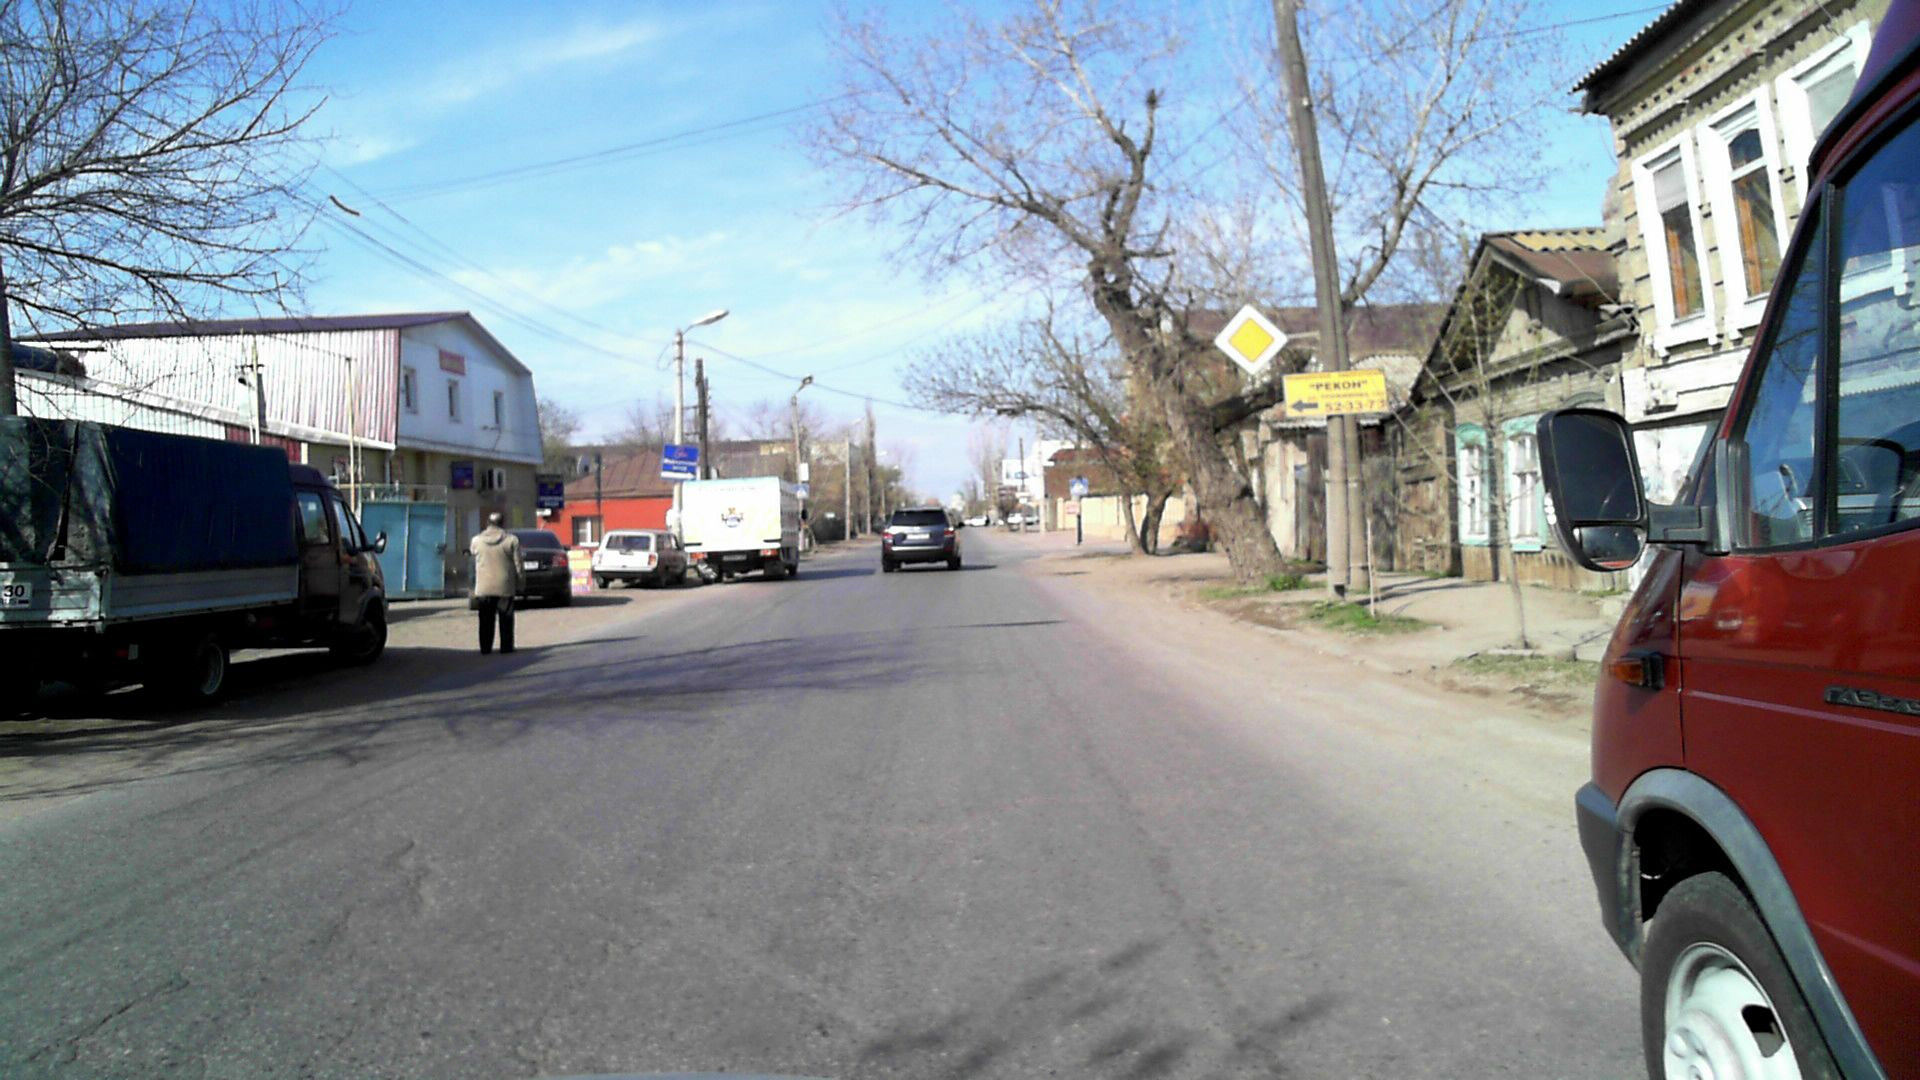Main Road: (1213, 305, 1288, 375)
